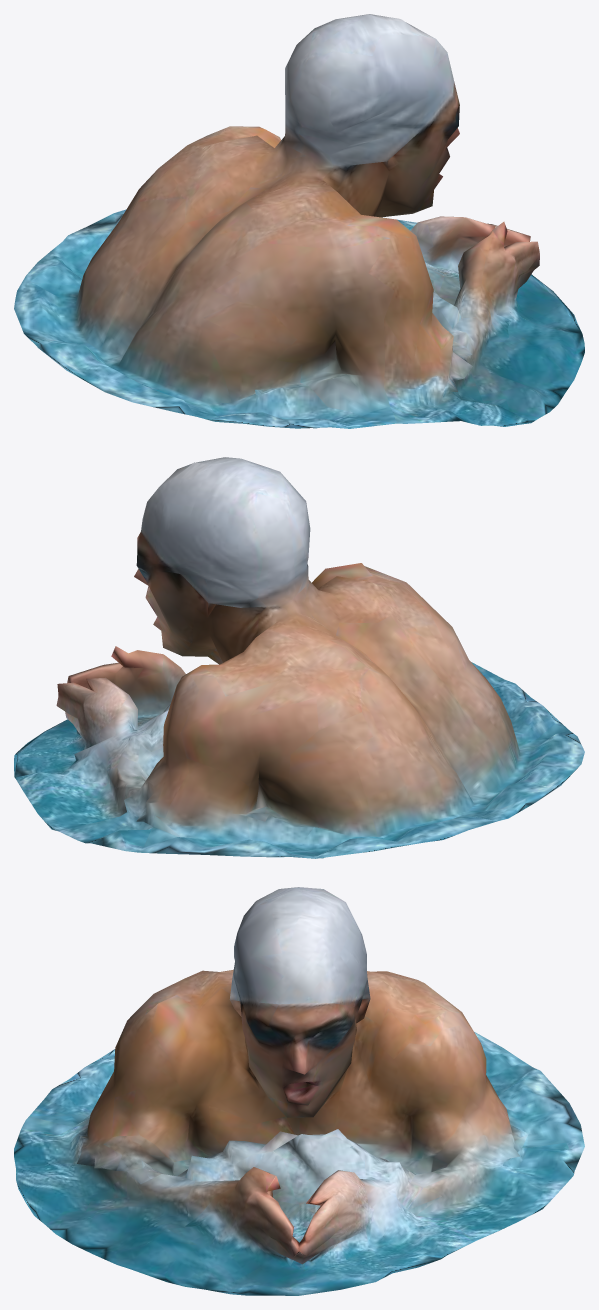
Rendered from zs_schwimmer.glb.
3 renders of one model, top to bottom at view 1: azimuth 30°, elevation 25°; view 2: azimuth 150°, elevation 25°; view 3: azimuth 270°, elevation 25°, orthographic. The views are drawn at different scales.
Parts seen in each view (by area): view 1: tripo_node_1787b514-0316-493c-90c0-4b496b8234a2; view 2: tripo_node_1787b514-0316-493c-90c0-4b496b8234a2; view 3: tripo_node_1787b514-0316-493c-90c0-4b496b8234a2.
Boxes of the visible parts, <box> form: tripo_node_1787b514-0316-493c-90c0-4b496b8234a2: <box>14,14,584,428</box>; tripo_node_1787b514-0316-493c-90c0-4b496b8234a2: <box>14,457,584,858</box>; tripo_node_1787b514-0316-493c-90c0-4b496b8234a2: <box>14,887,584,1295</box>.
Bounding box in the file's own units: 0.9986 × 0.6065 × 1.
Materials: 1 (1 with a texture image).
